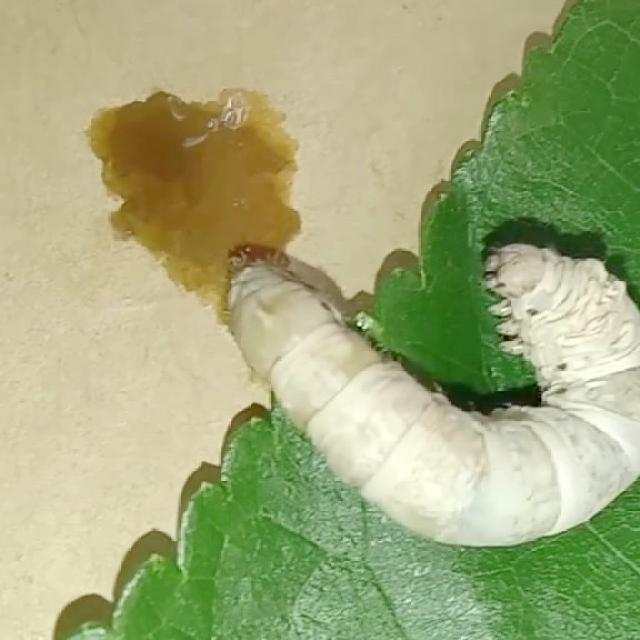Grasserie: (205, 194, 640, 555)
